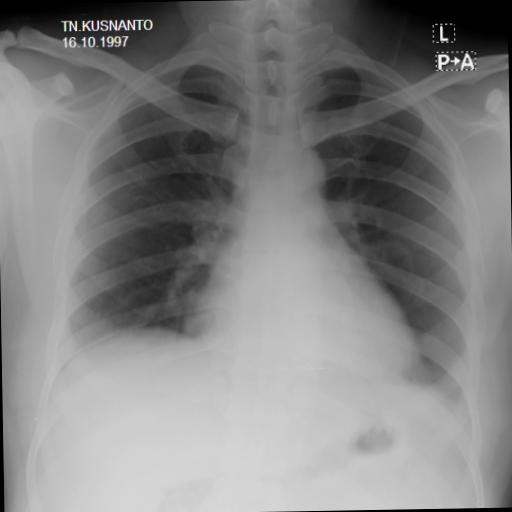kardiomegali: (31, 20, 490, 441)
